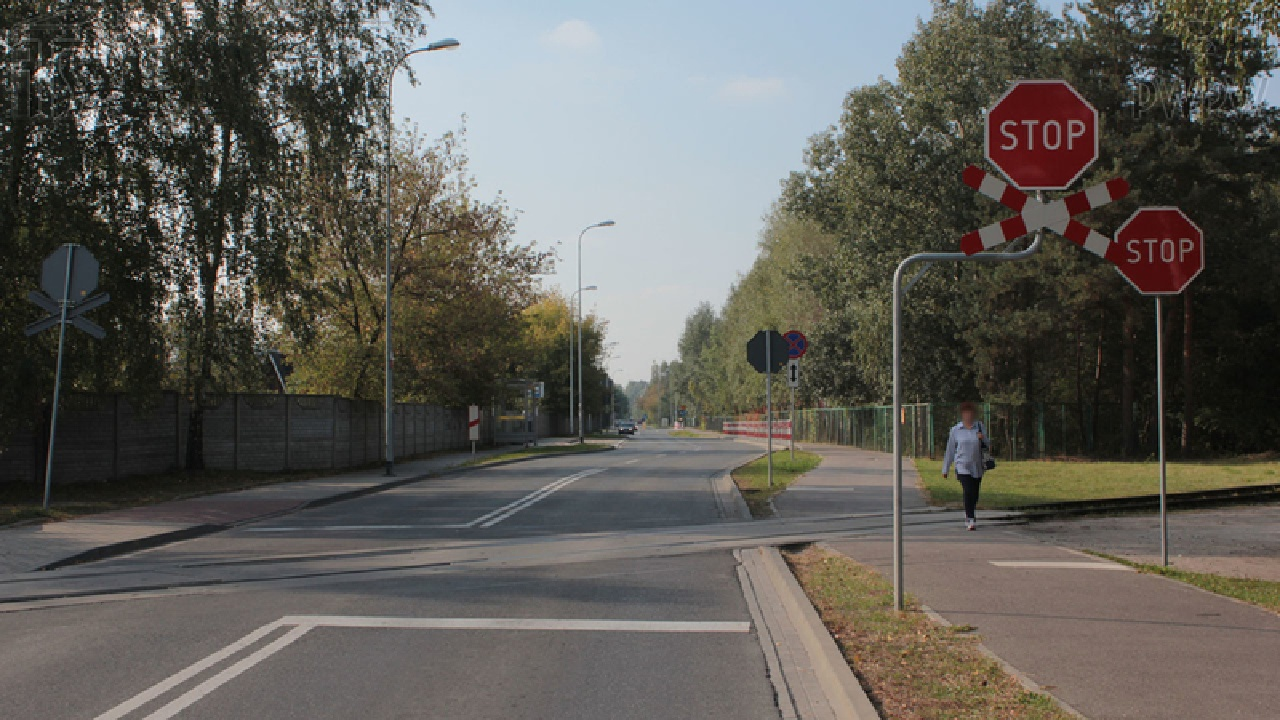B20: (984, 78, 1100, 194), (1114, 204, 1206, 297)
B36: (781, 330, 807, 359)
